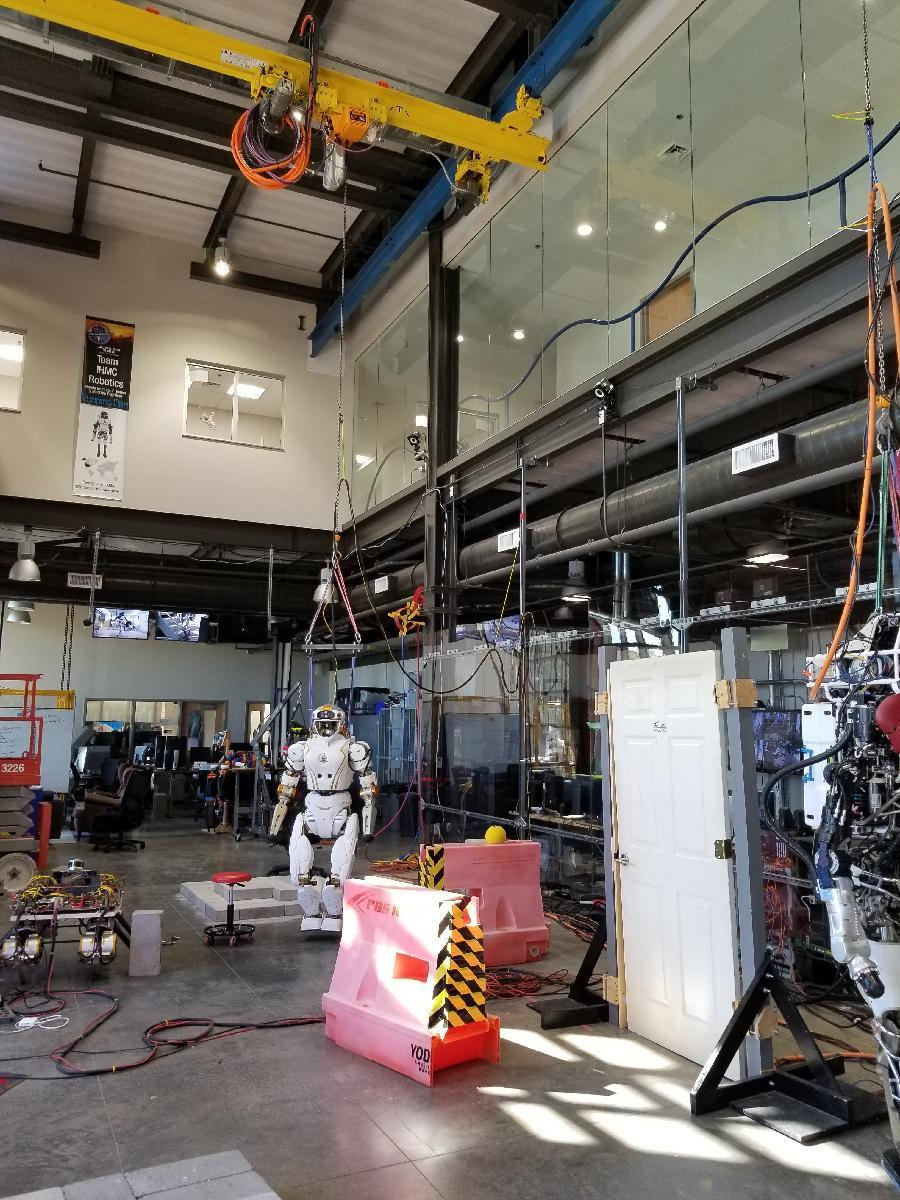door: (614, 658, 747, 1081)
